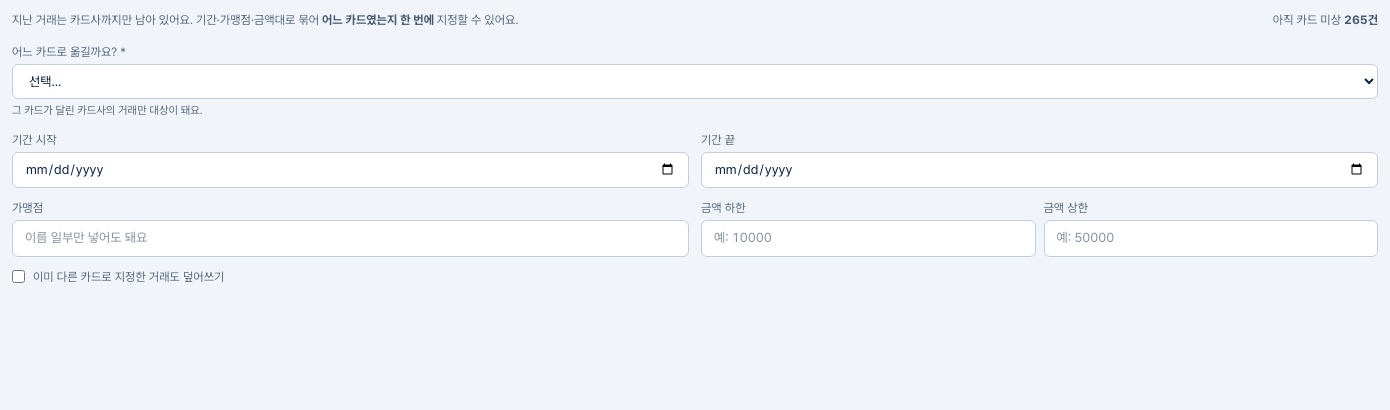
C. 프리뷰 — 실행 전에 건수가 보인다 › C-3. 대표 사례를 전 → 후로 보여준다
Select "하나 A · 하나카드" in the dropdown labelled "어느 카드로 옮길까요? *" at (695, 82), box [12,64,1378,99]
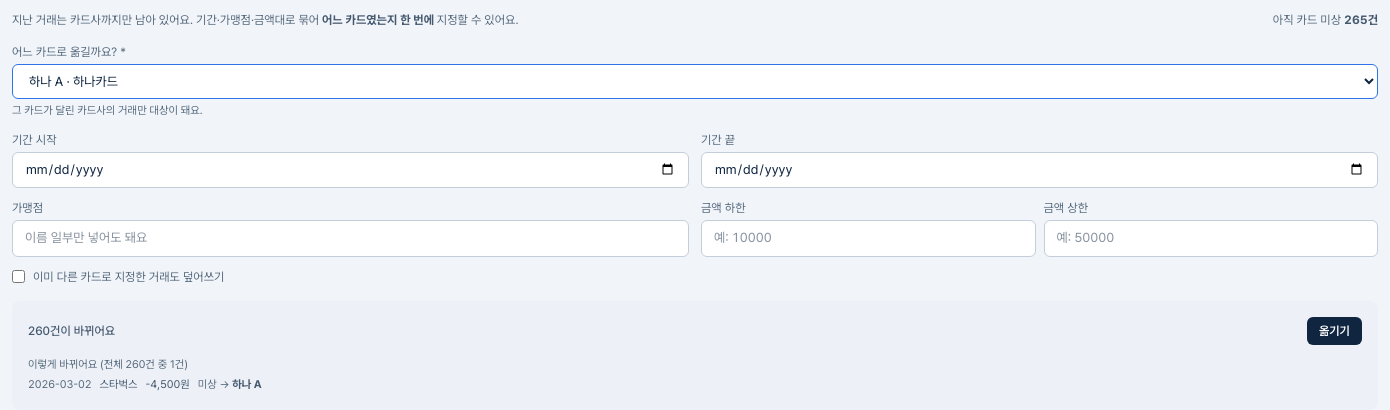
Result: the text "미상 → 하나 A" is shown at [198,377,262,394]
Result: the text "스타벅스" is shown at [100,377,138,394]
